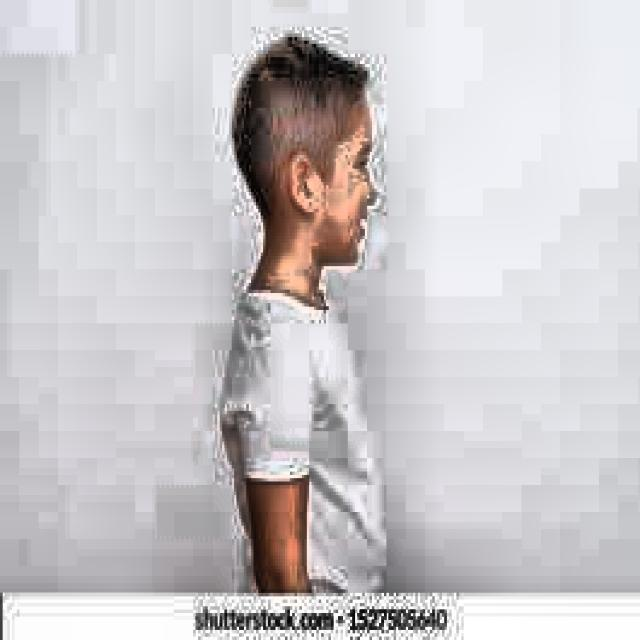Human: (182, 23, 426, 606)
